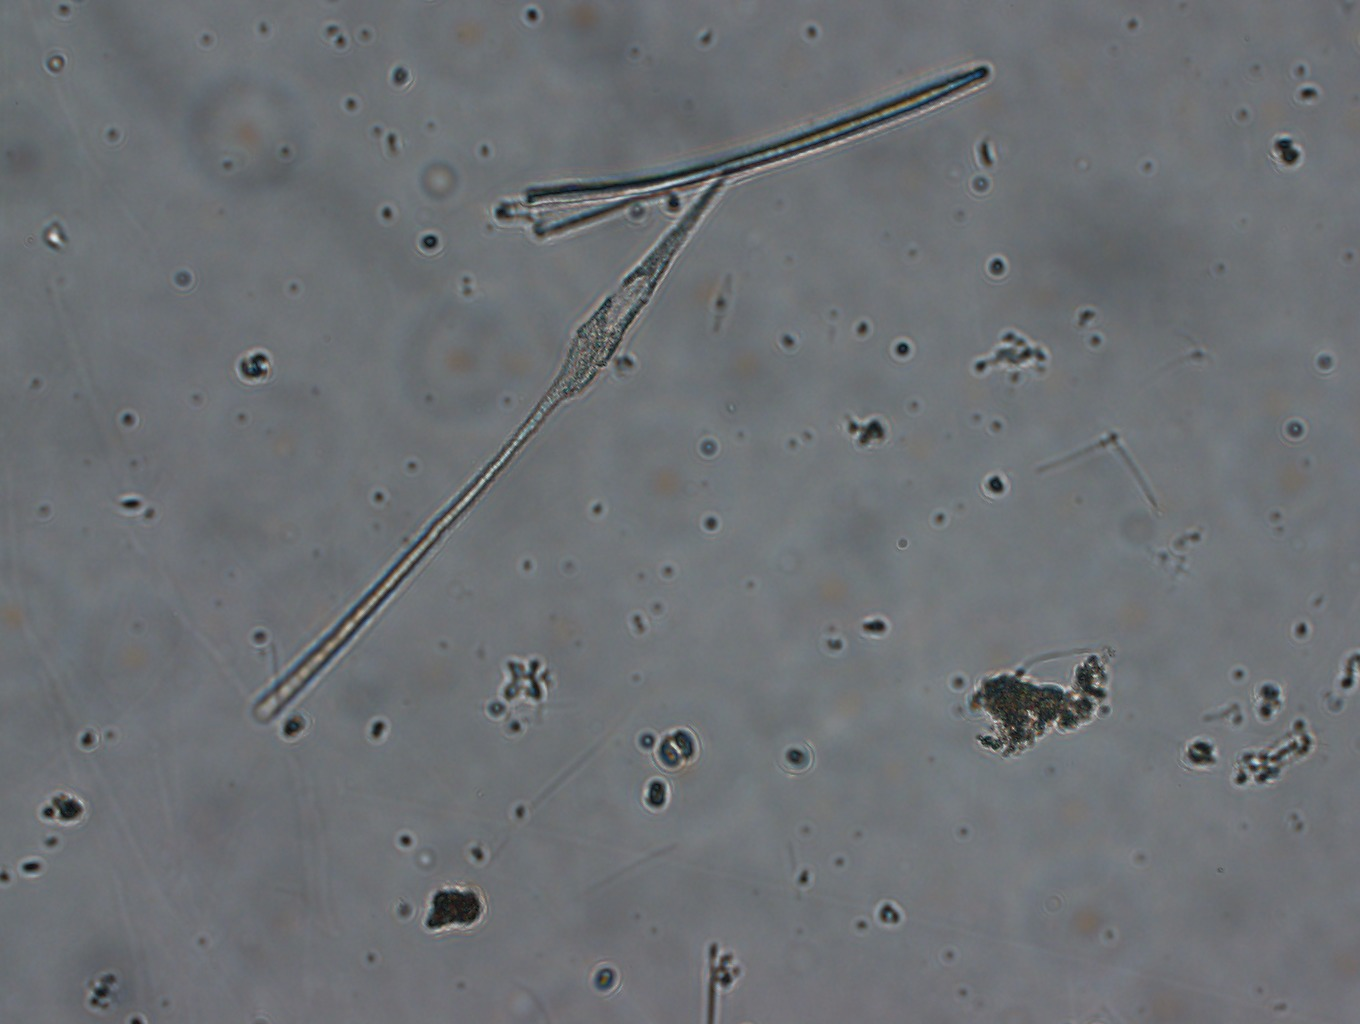ceratium fusus: (244, 162, 733, 735)
